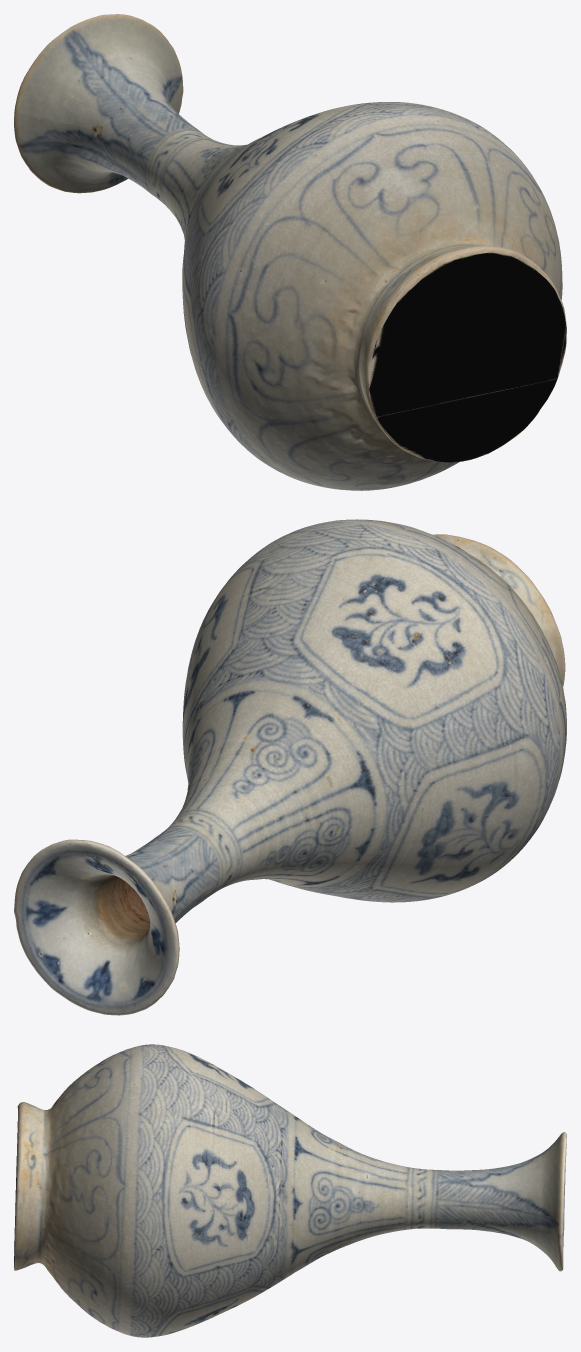
File: pottery.glb
3 views of the same model, one above another, from view 1: azimuth 30°, elevation 25°; view 2: azimuth 150°, elevation 25°; view 3: azimuth 270°, elevation 25° (orthographic). The views are drawn at different scales.
Parts seen in each view (by area): view 1: Object_2; view 2: Object_2; view 3: Object_2.
Part boxes in pixels (x1,y1,x2,y2): Object_2: (14, 14, 566, 490); Object_2: (14, 519, 566, 1015); Object_2: (14, 1044, 566, 1337).
Bounding box in the file's own units: 0.1431 × 0.1426 × 0.2684.
1 material, 1 textured.
